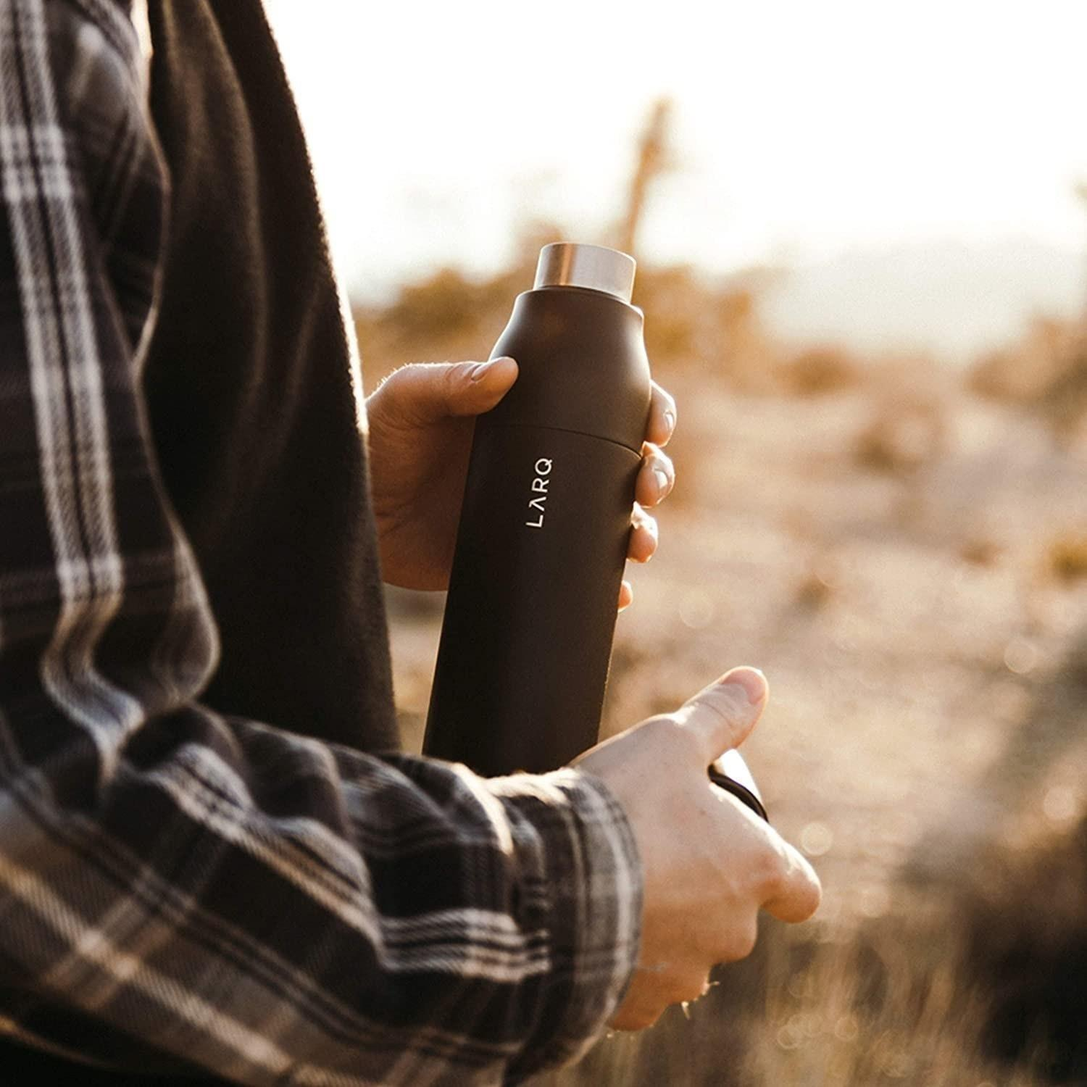gym bottle: (420, 234, 657, 775)
